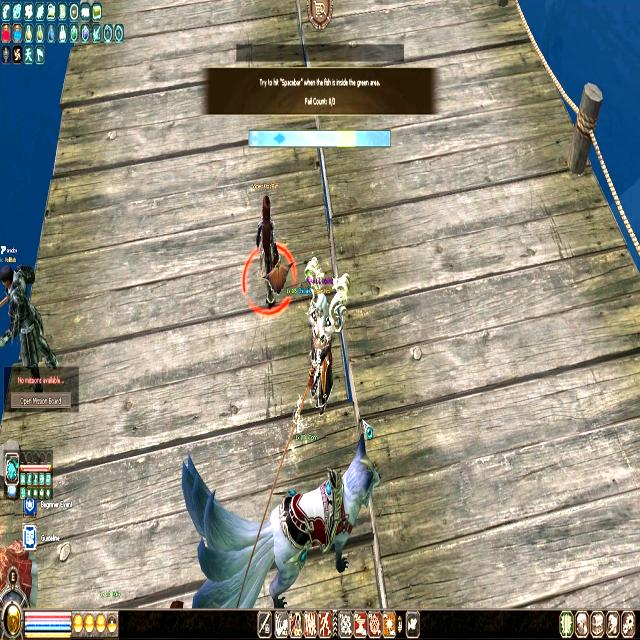fishes: (273, 131, 286, 145)
